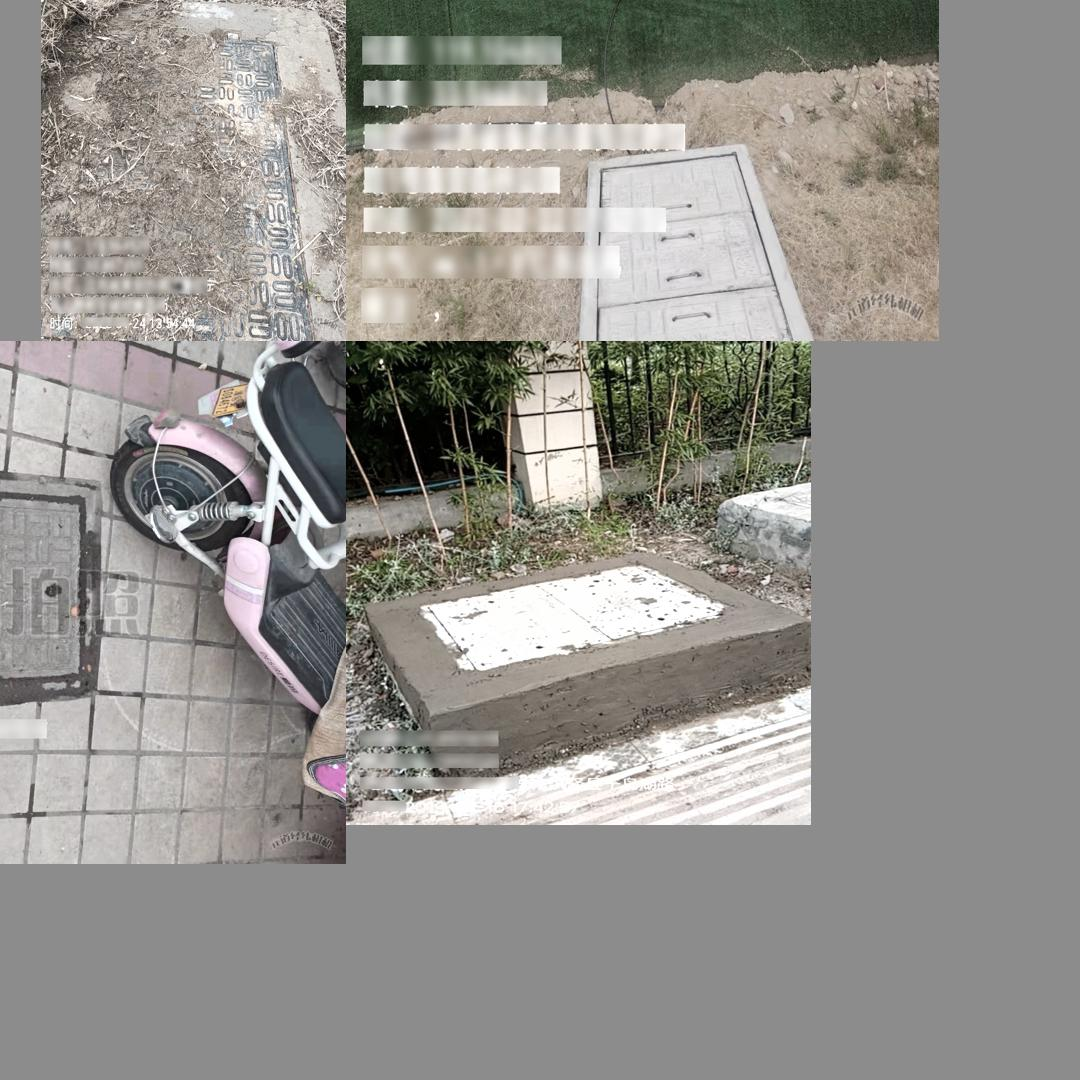good: (48, 28, 315, 341), (575, 140, 812, 341), (417, 563, 737, 670), (0, 459, 97, 703)
